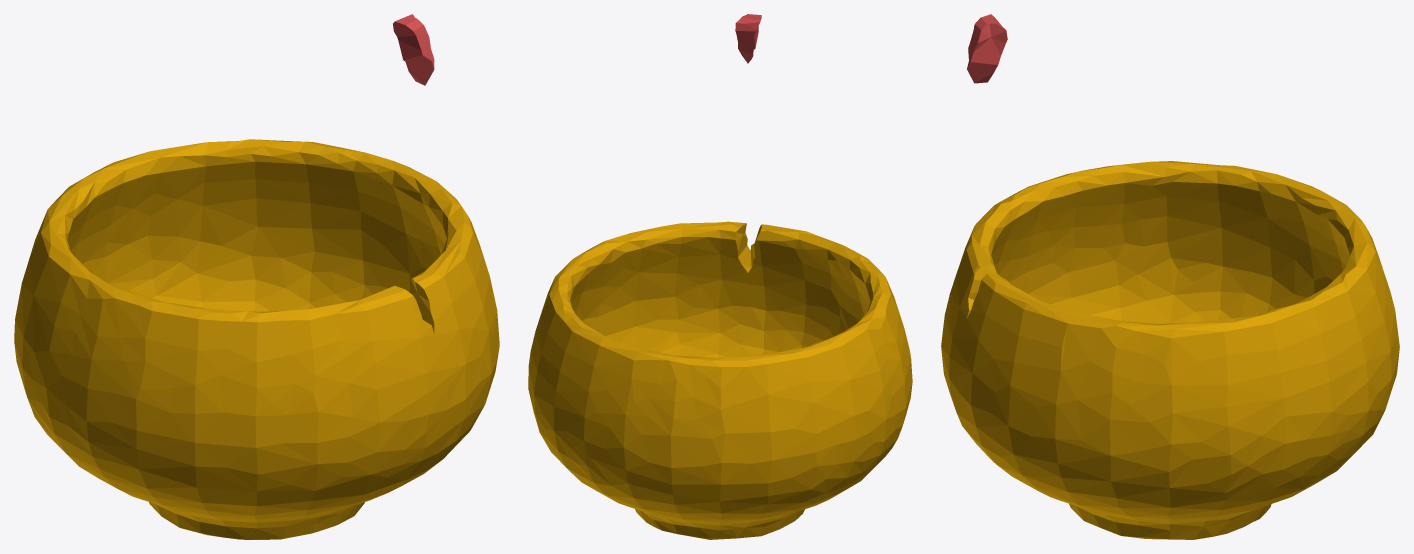
Rendered from fractured_58_2pcs_transformed.glb.
The picture shows the model from 3 angles, left to right: view 1: azimuth 30°, elevation 25°; view 2: azimuth 150°, elevation 25°; view 3: azimuth 270°, elevation 25°; orthographic projection. The views are drawn at different scales.
Parts seen in each view (by area): view 1: piece_0.obj, piece_1.obj; view 2: piece_0.obj, piece_1.obj; view 3: piece_0.obj, piece_1.obj.
Part boxes in pixels (left/top/right/bottom): piece_0.obj: left=14, top=139, right=499, bottom=539; piece_1.obj: left=393, top=14, right=434, bottom=85; piece_0.obj: left=528, top=221, right=912, bottom=539; piece_1.obj: left=735, top=14, right=761, bottom=63; piece_0.obj: left=941, top=161, right=1399, bottom=539; piece_1.obj: left=967, top=14, right=1007, bottom=83.
Bounding box in the file's own units: 0.9997 × 1.21 × 1.
